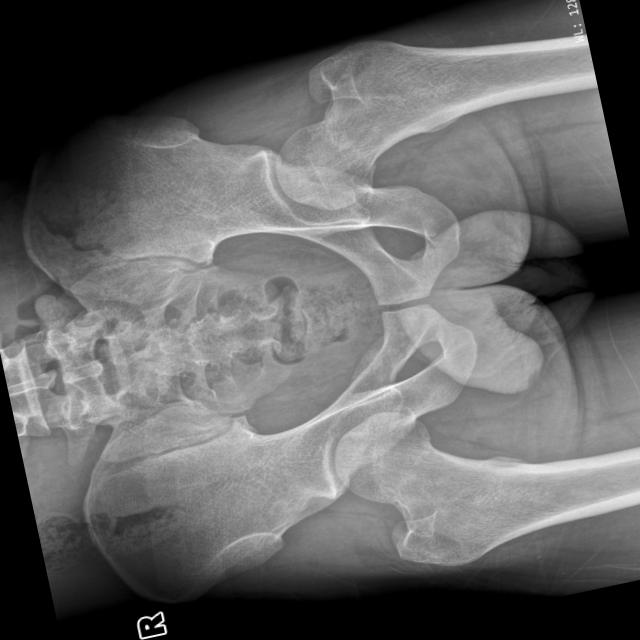normal-left: (277, 36, 585, 208)
normal-right: (334, 410, 639, 565)
